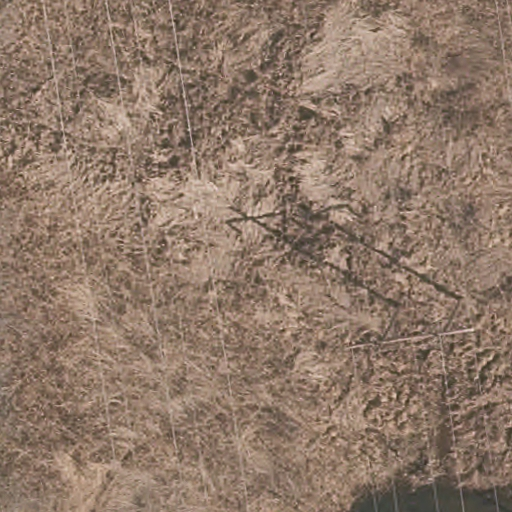DT: (339, 306, 488, 372)
